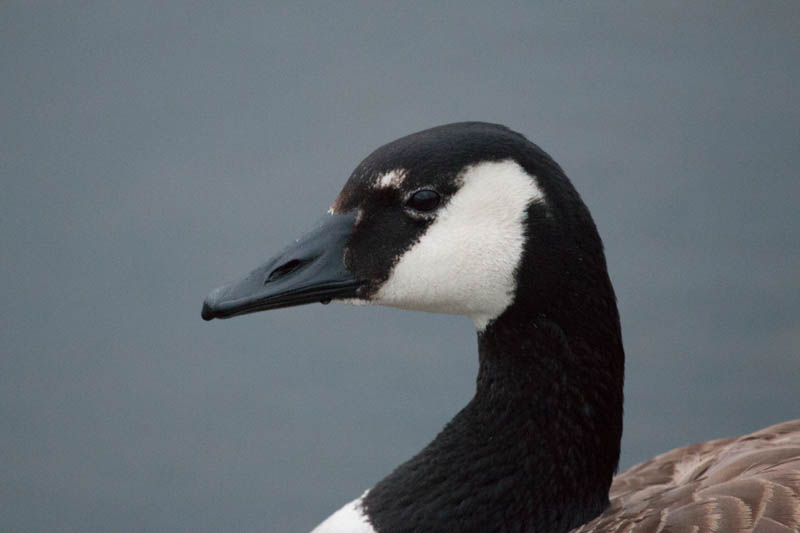goose-head: (201, 121, 592, 334)
